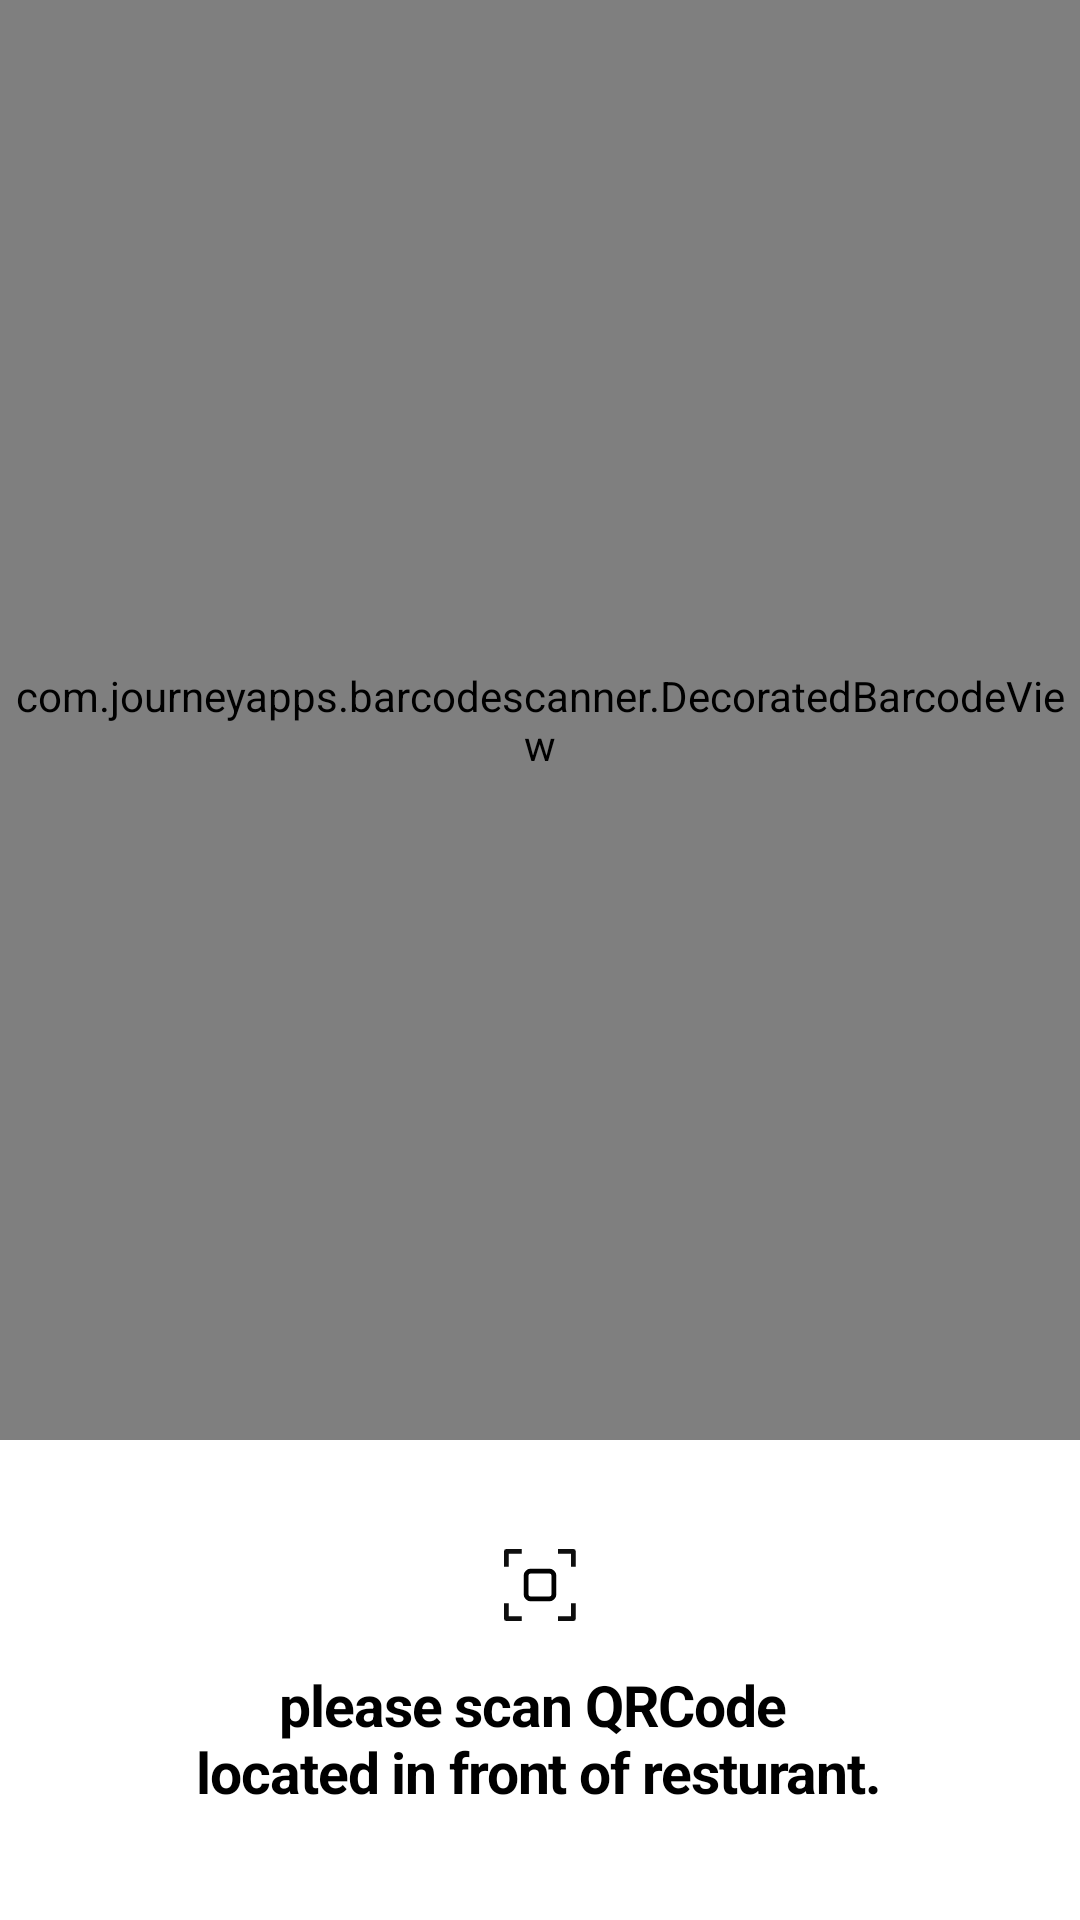

Icon bounding boxes for this 1080×1920 phone screenshot, format (x1, y1, x2, y2):
qrscan: (504, 1549, 576, 1621)
